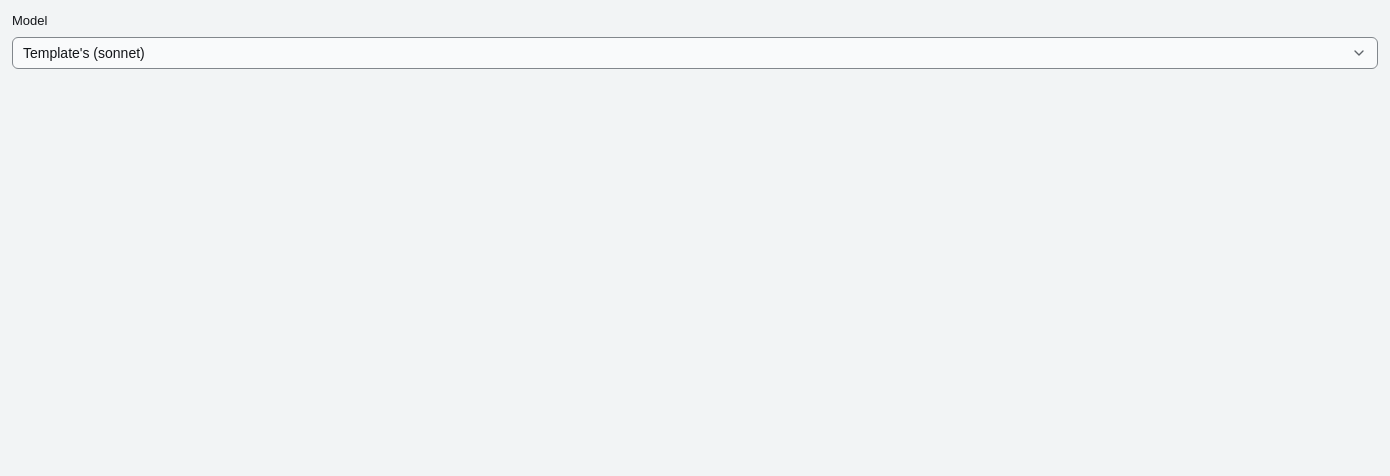
picking a model overrides it: 'This agent' and 'Use template's' clear the override
Expected: the text "This agent" is not shown
Click the dropdown named "Model": (84, 53) [12, 37, 1378, 69]
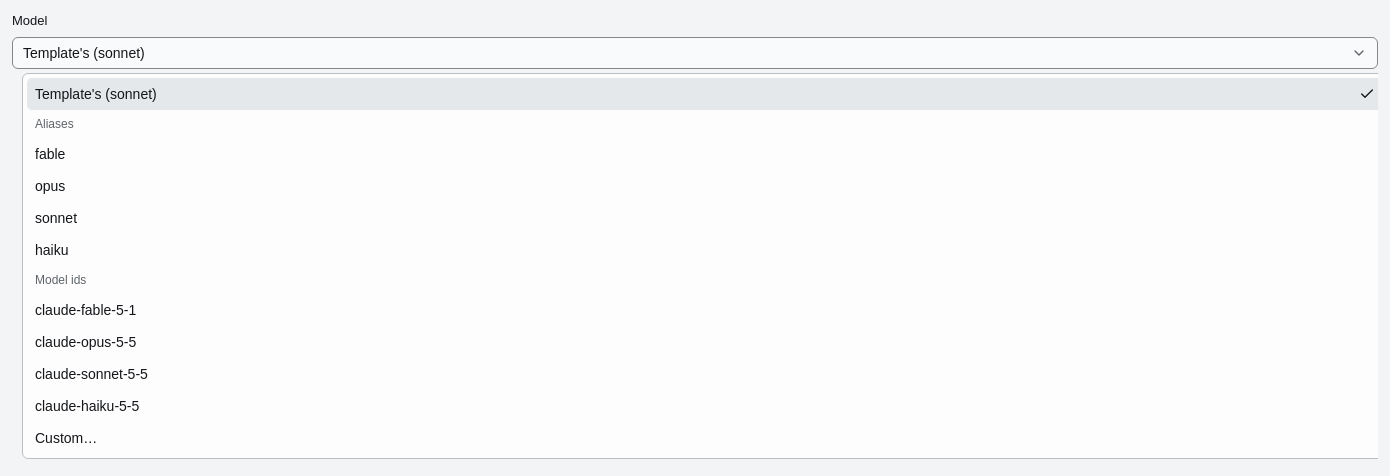
Click the option "opus": (50, 186) [35, 178, 65, 194]
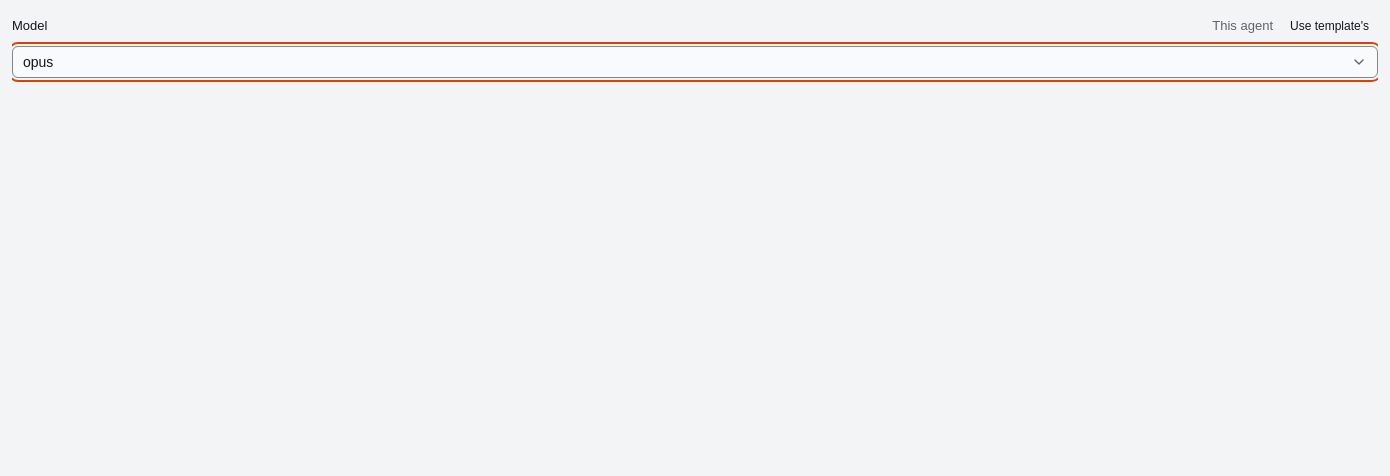
Result: the text "This agent" is shown at [1212, 17, 1273, 35]
Click the button with aria-label "Use template's model": (1330, 26) [1281, 14, 1378, 38]
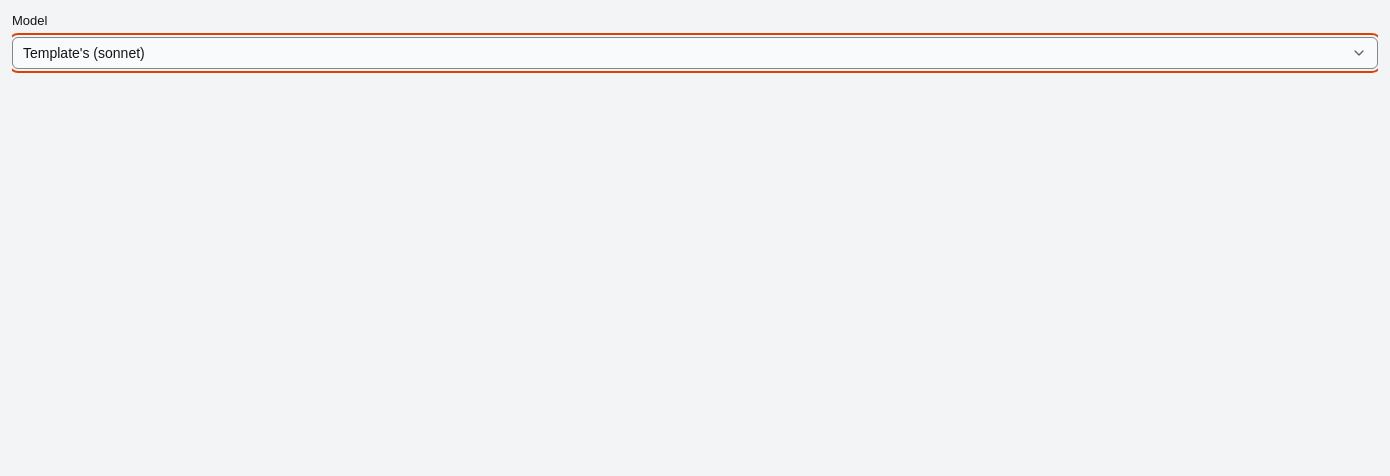
Result: the dropdown named "Model" reads "Template's (sonnet)" at [12, 37, 1378, 69]
